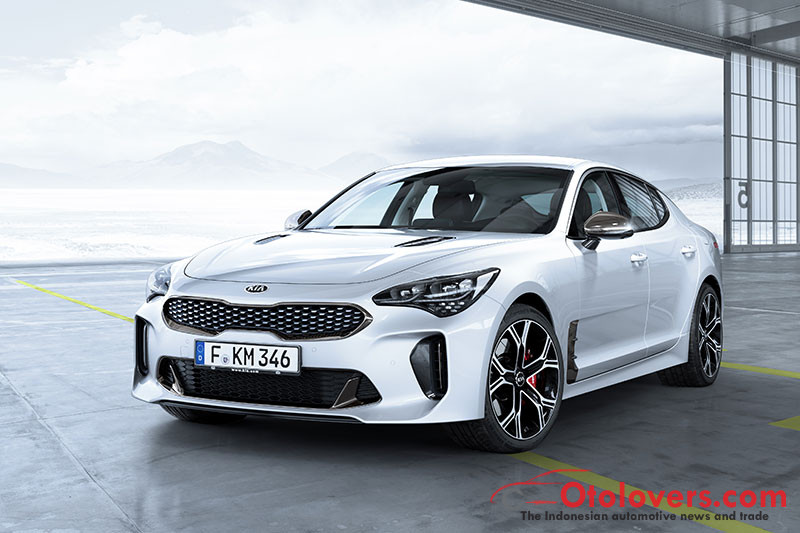car: (108, 110, 748, 464)
